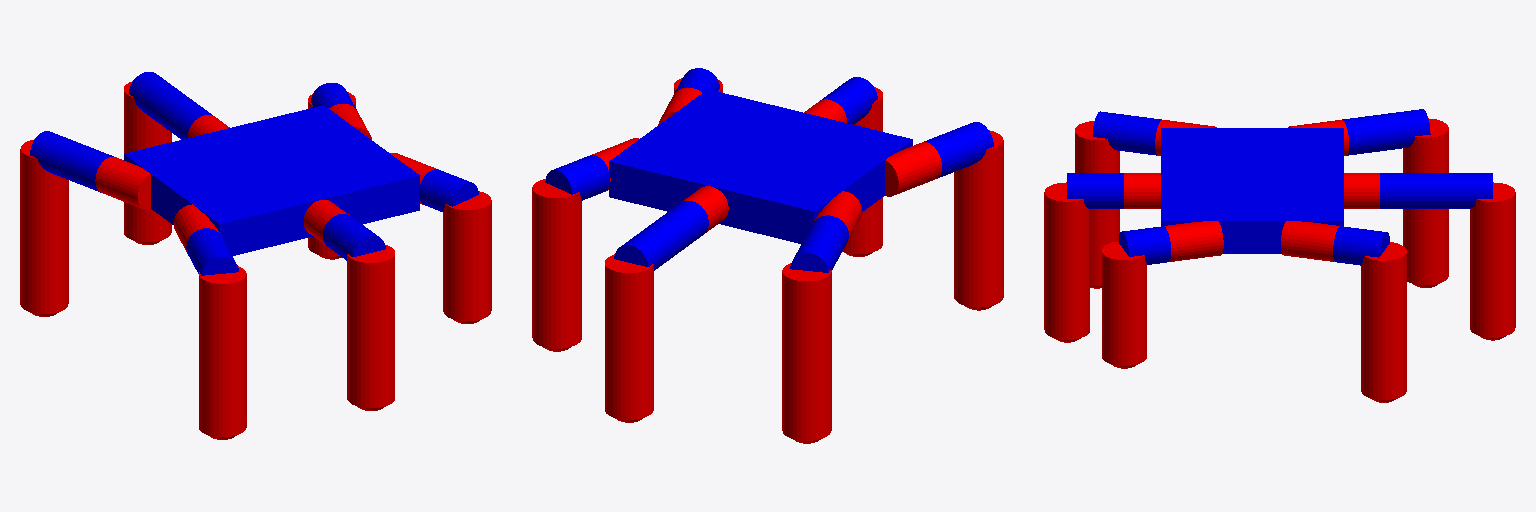
--- Render facts (derived) ---
The picture shows the robot from 3 angles, left to right: view 1: azimuth 30°, elevation 25°; view 2: azimuth 150°, elevation 25°; view 3: azimuth 270°, elevation 25°; orthographic projection.
Model pexod with 19 links and 18 joints (18 revolute), rooted at base_link, posed all joints at 0.
Visible links, largest first — view 1: base_link, leg_5_3, leg_4_3, leg_0_3, leg_3_3, leg_1_3, leg_1_2, leg_0_2, leg_0_1, leg_4_2, leg_5_2, leg_3_2 (+5 smaller); view 2: base_link, leg_0_3, leg_2_3, leg_1_3, leg_5_3, leg_1_2, leg_0_2, leg_5_1, leg_5_2, leg_4_3, leg_2_2, leg_4_2 (+5 smaller); view 3: base_link, leg_2_3, leg_4_3, leg_1_3, leg_0_3, leg_3_3, leg_1_2, leg_5_3, leg_0_2, leg_5_2, leg_3_1, leg_2_1 (+5 smaller).
Boxes of the visible links, bbox=[...] form: base_link: bbox=[124, 105, 419, 255]; leg_5_3: bbox=[199, 266, 246, 439]; leg_4_3: bbox=[347, 245, 394, 410]; leg_0_3: bbox=[20, 139, 68, 316]; leg_3_3: bbox=[443, 191, 491, 323]; leg_1_3: bbox=[124, 81, 171, 244]; leg_1_2: bbox=[129, 72, 212, 139]; leg_0_2: bbox=[30, 131, 113, 192]; leg_0_1: bbox=[95, 157, 150, 209]; leg_4_2: bbox=[323, 214, 385, 260]; leg_5_2: bbox=[186, 228, 238, 275]; leg_3_2: bbox=[419, 169, 478, 211]; base_link: bbox=[609, 89, 912, 243]; leg_0_3: bbox=[782, 263, 831, 443]; leg_2_3: bbox=[532, 179, 581, 351]; leg_1_3: bbox=[605, 254, 653, 422]; leg_5_3: bbox=[954, 130, 1003, 310]; leg_1_2: bbox=[614, 201, 708, 270]; leg_0_2: bbox=[790, 215, 848, 272]; leg_5_1: bbox=[885, 142, 941, 196]; leg_5_2: bbox=[924, 122, 993, 178]; leg_4_3: bbox=[842, 87, 882, 256]; leg_2_2: bbox=[545, 155, 609, 200]; leg_4_2: bbox=[820, 77, 877, 124]; base_link: bbox=[1161, 128, 1343, 253]; leg_2_3: bbox=[1361, 242, 1406, 402]; leg_4_3: bbox=[1044, 182, 1089, 342]; leg_1_3: bbox=[1470, 182, 1515, 340]; leg_0_3: bbox=[1403, 118, 1448, 287]; leg_3_3: bbox=[1102, 241, 1146, 368]; leg_1_2: bbox=[1380, 173, 1492, 208]; leg_5_3: bbox=[1075, 121, 1119, 288]; leg_0_2: bbox=[1342, 109, 1430, 155]; leg_5_2: bbox=[1093, 111, 1161, 155]; leg_3_1: bbox=[1165, 221, 1223, 261]; leg_2_1: bbox=[1281, 221, 1339, 261].
Bounding box of the posed robot: 0.3683 × 0.5148 × 0.2108 m (x, y, z).
Geometry: primitives only (box / cylinder / sphere), no mesh files.

robot.urdf — pexod:
<?xml version="1.0" ?>
<!-- =================================================================================== -->
<!-- |    This document was autogenerated by xacro from pexod.xacro                    | -->
<!-- |    EDITING THIS FILE BY HAND IS NOT RECOMMENDED                                 | -->
<!-- =================================================================================== -->
<robot name="pexod" xmlns:xacro="http://www.ros.org/wiki/xacro">
  <!-- <xacro:include filename="$(find pexod_description)/urdf/pexod_control.xacro" /> -->
  <!-- MATERIALS -->
  <material name="Blue">
    <color rgba="0 0 1 1"/>
  </material>
  <material name="Red">
    <color rgba="1 0 0 1"/>
  </material>
  <material name="Green">
    <color rgba="0 1 0 1"/>
  </material>
  <material name="Yellow">
    <color rgba="1 1 0 1"/>
  </material>
  <material name="LightGrey">
    <color rgba="0.6 0.6 0.6 1.0"/>
  </material>
  <!-- END OF MATERIALS -->
  <!-- XACRO MACROS FOR VISUALS AND COLLISIONS -->
  <!-- END OF XACRO MACROS -->
  <!-- TORSO -->
  <link name="base_link">
    <visual>
      <origin rpy="0 0 0" xyz="0 0 0"/>
      <geometry>
        <box size="0.24 0.2 0.04"/>
      </geometry>
      <material name="Blue"/>
    </visual>
    <collision>
      <origin rpy="0 0 0" xyz="0 0 0"/>
      <geometry>
        <box size="0.24 0.2 0.04"/>
      </geometry>
    </collision>
    <inertial>
      <!-- CENTER OF MASS -->
      <origin rpy="0 0 0" xyz="0 0 0"/>
      <mass value="1.031"/>
      <!-- box inertia: 1/12*m(y^2+z^2), ... -->
      <inertia ixx="0.00357413333333" ixy="0" ixz="0" iyy="0.00508626666667" iyz="0" izz="0.00838546666667"/>
    </inertial>
  </link>
  <!-- XACRO MACRO FOR LEGS LINKS/JOINTS -->
  <!-- END OF LEG LINKS/JOINTS -->
  <joint name="body_leg_2" type="revolute">
    <parent link="base_link"/>
    <child link="leg_2_1"/>
    <limit effort="30.0" lower="-1.57079632679" upper="1.57079632679" velocity="7.0"/>
    <origin rpy="0 0 -0.3" xyz="0.11 0.04 0"/>
    <!-- <xacro:if value="${index == 5 or index == 4 or index == 3}">
                <axis xyz="0 0 1"/>
            </xacro:if>
            <xacro:if value="${index == 2 or index == 1 or index == 0}"> -->
    <axis xyz="0 0 1"/>
    <!-- </xacro:if> -->
    <dynamics damping="0.0"/>
  </joint>
  <link name="leg_2_1">
    <visual>
      <origin rpy="1.57079632679 0 0" xyz="0.01 0.03 0"/>
      <geometry>
        <cylinder length="0.06" radius="0.02"/>
      </geometry>
      <material name="Red"/>
    </visual>
    <collision>
      <origin rpy="1.57079632679 0 0" xyz="0.01 0.03 0"/>
      <geometry>
        <box size="0.02 0.02 0.06"/>
      </geometry>
    </collision>
    <inertial>
      <!-- CENTER OF MASS -->
      <origin rpy="1.57079632679 0 0" xyz="0.01 0.03 0"/>
      <mass value="0.02"/>
      <!-- box inertia: 1/12*m(y^2+z^2), ... -->
      <inertia ixx="6.66666666667e-06" ixy="0" ixz="0" iyy="6.66666666667e-06" iyz="0" izz="1.33333333333e-06"/>
    </inertial>
  </link>
  <joint name="leg_2_1_2" type="revolute">
    <parent link="leg_2_1"/>
    <child link="leg_2_2"/>
    <limit effort="30.0" lower="-0.78539816339" upper="0.78539816339" velocity="7.0"/>
    <origin rpy="0 0 0" xyz="0 0.06 0"/>
    <axis xyz="1 0 0"/>
    <dynamics damping="0.0"/>
  </joint>
  <link name="leg_2_2">
    <visual>
      <origin rpy="1.57079632679 0 0" xyz="0.01 0.0263779897783 0"/>
      <geometry>
        <cylinder length="0.0527559795565" radius="0.02"/>
      </geometry>
      <material name="Blue"/>
    </visual>
    <collision>
      <origin rpy="1.57079632679 0 0" xyz="0.01 0.0263779897783 0"/>
      <geometry>
        <box size="0.02 0.02 0.0527559795565"/>
      </geometry>
    </collision>
    <inertial>
      <!-- CENTER OF MASS -->
      <origin rpy="1.57079632679 0 0" xyz="0.01 0.0263779897783 0"/>
      <mass value="0.184"/>
      <!-- box inertia: 1/12*m(y^2+z^2), ... -->
      <inertia ixx="4.88089651441e-05" ixy="0" ixz="0" iyy="4.88089651441e-05" iyz="0" izz="1.22666666667e-05"/>
    </inertial>
  </link>
  <joint name="leg_2_2_3" type="revolute">
    <parent link="leg_2_2"/>
    <child link="leg_2_3"/>
    <limit effort="30.0" lower="-0.78539816339" upper="0.78539816339" velocity="7.0"/>
    <origin rpy="-1.57079632679 0 0" xyz="0 0.0527559795565 0"/>
    <axis xyz="-1 0 0"/>
    <dynamics damping="0.0"/>
  </joint>
  <link name="leg_2_3">
    <visual>
      <origin rpy="1.57079632679 0 0" xyz="0.0125 0.084027027205 0"/>
      <geometry>
        <cylinder length="0.16805405441" radius="0.025"/>
      </geometry>
      <material name="Red"/>
    </visual>
    <visual>
      <origin rpy="1.57079632679 0 0" xyz="0.0125 0.15555405441 0"/>
      <geometry>
        <sphere radius="0.025"/>
      </geometry>
      <material name="Red"/>
    </visual>
    <collision>
      <origin rpy="1.57079632679 0 0" xyz="0.0125 0.084027027205 0"/>
      <geometry>
        <box size="0.025 0.025 0.16805405441"/>
      </geometry>
    </collision>
    <collision>
      <origin rpy="1.57079632679 0 0" xyz="0.0125 0.15555405441 0"/>
      <geometry>
        <sphere radius="0.025"/>
      </geometry>
      <material name="Red"/>
    </collision>
    <inertial>
      <!-- CENTER OF MASS -->
      <origin rpy="1.57079632679 0 0" xyz="0.0125 0.084027027205 0"/>
      <mass value="0.04"/>
      <!-- box inertia: 1/12*m(y^2+z^2), ... -->
      <inertia ixx="9.62238840121e-05" ixy="0" ixz="0" iyy="9.62238840121e-05" iyz="0" izz="4.16666666667e-06"/>
    </inertial>
  </link>
  <joint name="body_leg_3" type="revolute">
    <parent link="base_link"/>
    <child link="leg_3_1"/>
    <limit effort="30.0" lower="-1.57079632679" upper="1.57079632679" velocity="7.0"/>
    <origin rpy="0 0 0.3" xyz="0.11 -0.04 0"/>
    <!-- <xacro:if value="${index == 5 or index == 4 or index == 3}">
                <axis xyz="0 0 1"/>
            </xacro:if>
            <xacro:if value="${index == 2 or index == 1 or index == 0}"> -->
    <axis xyz="0 0 1"/>
    <!-- </xacro:if> -->
    <dynamics damping="0.0"/>
  </joint>
  <link name="leg_3_1">
    <visual>
      <origin rpy="1.57079632679 0 0" xyz="0.01 -0.03 0"/>
      <geometry>
        <cylinder length="0.06" radius="0.02"/>
      </geometry>
      <material name="Red"/>
    </visual>
    <collision>
      <origin rpy="1.57079632679 0 0" xyz="0.01 -0.03 0"/>
      <geometry>
        <box size="0.02 0.02 0.06"/>
      </geometry>
    </collision>
    <inertial>
      <!-- CENTER OF MASS -->
      <origin rpy="1.57079632679 0 0" xyz="0.01 -0.03 0"/>
      <mass value="0.02"/>
      <!-- box inertia: 1/12*m(y^2+z^2), ... -->
      <inertia ixx="6.66666666667e-06" ixy="0" ixz="0" iyy="6.66666666667e-06" iyz="0" izz="1.33333333333e-06"/>
    </inertial>
  </link>
  <joint name="leg_3_1_2" type="revolute">
    <parent link="leg_3_1"/>
    <child link="leg_3_2"/>
    <limit effort="30.0" lower="-0.78539816339" upper="0.78539816339" velocity="7.0"/>
    <origin rpy="0 0 0" xyz="0 -0.06 0"/>
    <axis xyz="-1 0 0"/>
    <dynamics damping="0.0"/>
  </joint>
  <link name="leg_3_2">
    <visual>
      <origin rpy="1.57079632679 0 0" xyz="0.01 -0.0240310248565 0"/>
      <geometry>
        <cylinder length="0.048062049713" radius="0.02"/>
      </geometry>
      <material name="Blue"/>
    </visual>
    <collision>
      <origin rpy="1.57079632679 0 0" xyz="0.01 -0.0240310248565 0"/>
      <geometry>
        <box size="0.02 0.02 0.048062049713"/>
      </geometry>
    </collision>
    <inertial>
      <!-- CENTER OF MASS -->
      <origin rpy="1.57079632679 0 0" xyz="0.01 -0.0240310248565 0"/>
      <mass value="0.184"/>
      <!-- box inertia: 1/12*m(y^2+z^2), ... -->
      <inertia ixx="4.15527295468e-05" ixy="0" ixz="0" iyy="4.15527295468e-05" iyz="0" izz="1.22666666667e-05"/>
    </inertial>
  </link>
  <joint name="leg_3_2_3" type="revolute">
    <parent link="leg_3_2"/>
    <child link="leg_3_3"/>
    <limit effort="30.0" lower="-0.78539816339" upper="0.78539816339" velocity="7.0"/>
    <origin rpy="1.57079632679 0 0" xyz="0 -0.048062049713 0"/>
    <axis xyz="1 0 0"/>
    <dynamics damping="0.0"/>
  </joint>
  <link name="leg_3_3">
    <visual>
      <origin rpy="1.57079632679 0 0" xyz="0.0125 -0.0637311681625 0"/>
      <geometry>
        <cylinder length="0.127462336325" radius="0.025"/>
      </geometry>
      <material name="Red"/>
    </visual>
    <visual>
      <origin rpy="1.57079632679 0 0" xyz="0.0125 -0.114962336325 0"/>
      <geometry>
        <sphere radius="0.025"/>
      </geometry>
      <material name="Red"/>
    </visual>
    <collision>
      <origin rpy="1.57079632679 0 0" xyz="0.0125 -0.0637311681625 0"/>
      <geometry>
        <box size="0.025 0.025 0.127462336325"/>
      </geometry>
    </collision>
    <collision>
      <origin rpy="1.57079632679 0 0" xyz="0.0125 -0.114962336325 0"/>
      <geometry>
        <sphere radius="0.025"/>
      </geometry>
      <material name="Red"/>
    </collision>
    <inertial>
      <!-- CENTER OF MASS -->
      <origin rpy="1.57079632679 0 0" xyz="0.0125 -0.0637311681625 0"/>
      <mass value="0.04"/>
      <!-- box inertia: 1/12*m(y^2+z^2), ... -->
      <inertia ixx="5.62388239381e-05" ixy="0" ixz="0" iyy="5.62388239381e-05" iyz="0" izz="4.16666666667e-06"/>
    </inertial>
  </link>
  <joint name="body_leg_0" type="revolute">
    <parent link="base_link"/>
    <child link="leg_0_1"/>
    <limit effort="30.0" lower="-1.57079632679" upper="1.57079632679" velocity="7.0"/>
    <origin rpy="0 0 0.3" xyz="-0.13 0.04 0"/>
    <!-- <xacro:if value="${index == 5 or index == 4 or index == 3}">
                <axis xyz="0 0 1"/>
            </xacro:if>
            <xacro:if value="${index == 2 or index == 1 or index == 0}"> -->
    <axis xyz="0 0 1"/>
    <!-- </xacro:if> -->
    <dynamics damping="0.0"/>
  </joint>
  <link name="leg_0_1">
    <visual>
      <origin rpy="1.57079632679 0 0" xyz="0.01 0.03 0"/>
      <geometry>
        <cylinder length="0.06" radius="0.02"/>
      </geometry>
      <material name="Red"/>
    </visual>
    <collision>
      <origin rpy="1.57079632679 0 0" xyz="0.01 0.03 0"/>
      <geometry>
        <box size="0.02 0.02 0.06"/>
      </geometry>
    </collision>
    <inertial>
      <!-- CENTER OF MASS -->
      <origin rpy="1.57079632679 0 0" xyz="0.01 0.03 0"/>
      <mass value="0.02"/>
      <!-- box inertia: 1/12*m(y^2+z^2), ... -->
      <inertia ixx="6.66666666667e-06" ixy="0" ixz="0" iyy="6.66666666667e-06" iyz="0" izz="1.33333333333e-06"/>
    </inertial>
  </link>
  <joint name="leg_0_1_2" type="revolute">
    <parent link="leg_0_1"/>
    <child link="leg_0_2"/>
    <limit effort="30.0" lower="-0.78539816339" upper="0.78539816339" velocity="7.0"/>
    <origin rpy="0 0 0" xyz="0 0.06 0"/>
    <axis xyz="1 0 0"/>
    <dynamics damping="0.0"/>
  </joint>
  <link name="leg_0_2">
    <visual>
      <origin rpy="1.57079632679 0 0" xyz="0.01 0.0464117291585 0"/>
      <geometry>
        <cylinder length="0.0928234583169" radius="0.02"/>
      </geometry>
      <material name="Blue"/>
    </visual>
    <collision>
      <origin rpy="1.57079632679 0 0" xyz="0.01 0.0464117291585 0"/>
      <geometry>
        <box size="0.02 0.02 0.0928234583169"/>
      </geometry>
    </collision>
    <inertial>
      <!-- CENTER OF MASS -->
      <origin rpy="1.57079632679 0 0" xyz="0.01 0.0464117291585 0"/>
      <mass value="0.184"/>
      <!-- box inertia: 1/12*m(y^2+z^2), ... -->
      <inertia ixx="0.000138248314347" ixy="0" ixz="0" iyy="0.000138248314347" iyz="0" izz="1.22666666667e-05"/>
    </inertial>
  </link>
  <joint name="leg_0_2_3" type="revolute">
    <parent link="leg_0_2"/>
    <child link="leg_0_3"/>
    <limit effort="30.0" lower="-0.78539816339" upper="0.78539816339" velocity="7.0"/>
    <origin rpy="-1.57079632679 0 0" xyz="0 0.0928234583169 0"/>
    <axis xyz="-1 0 0"/>
    <dynamics damping="0.0"/>
  </joint>
  <link name="leg_0_3">
    <visual>
      <origin rpy="1.57079632679 0 0" xyz="0.0125 0.089129734427 0"/>
      <geometry>
        <cylinder length="0.178259468854" radius="0.025"/>
      </geometry>
      <material name="Red"/>
    </visual>
    <visual>
      <origin rpy="1.57079632679 0 0" xyz="0.0125 0.165759468854 0"/>
      <geometry>
        <sphere radius="0.025"/>
      </geometry>
      <material name="Red"/>
    </visual>
    <collision>
      <origin rpy="1.57079632679 0 0" xyz="0.0125 0.089129734427 0"/>
      <geometry>
        <box size="0.025 0.025 0.178259468854"/>
      </geometry>
    </collision>
    <collision>
      <origin rpy="1.57079632679 0 0" xyz="0.0125 0.165759468854 0"/>
      <geometry>
        <sphere radius="0.025"/>
      </geometry>
      <material name="Red"/>
    </collision>
    <inertial>
      <!-- CENTER OF MASS -->
      <origin rpy="1.57079632679 0 0" xyz="0.0125 0.089129734427 0"/>
      <mass value="0.04"/>
      <!-- box inertia: 1/12*m(y^2+z^2), ... -->
      <inertia ixx="0.00010800479412" ixy="0" ixz="0" iyy="0.00010800479412" iyz="0" izz="4.16666666667e-06"/>
    </inertial>
  </link>
  <joint name="body_leg_5" type="revolute">
    <parent link="base_link"/>
    <child link="leg_5_1"/>
    <limit effort="30.0" lower="-1.57079632679" upper="1.57079632679" velocity="7.0"/>
    <origin rpy="0 0 -0.3" xyz="-0.13 -0.04 0"/>
    <!-- <xacro:if value="${index == 5 or index == 4 or index == 3}">
                <axis xyz="0 0 1"/>
            </xacro:if>
            <xacro:if value="${index == 2 or index == 1 or index == 0}"> -->
    <axis xyz="0 0 1"/>
    <!-- </xacro:if> -->
    <dynamics damping="0.0"/>
  </joint>
  <link name="leg_5_1">
    <visual>
      <origin rpy="1.57079632679 0 0" xyz="0.01 -0.03 0"/>
      <geometry>
        <cylinder length="0.06" radius="0.02"/>
      </geometry>
      <material name="Red"/>
    </visual>
    <collision>
      <origin rpy="1.57079632679 0 0" xyz="0.01 -0.03 0"/>
      <geometry>
        <box size="0.02 0.02 0.06"/>
      </geometry>
    </collision>
    <inertial>
      <!-- CENTER OF MASS -->
      <origin rpy="1.57079632679 0 0" xyz="0.01 -0.03 0"/>
      <mass value="0.02"/>
      <!-- box inertia: 1/12*m(y^2+z^2), ... -->
      <inertia ixx="6.66666666667e-06" ixy="0" ixz="0" iyy="6.66666666667e-06" iyz="0" izz="1.33333333333e-06"/>
    </inertial>
  </link>
  <joint name="leg_5_1_2" type="revolute">
    <parent link="leg_5_1"/>
    <child link="leg_5_2"/>
    <limit effort="30.0" lower="-0.78539816339" upper="0.78539816339" velocity="7.0"/>
    <origin rpy="0 0 0" xyz="0 -0.06 0"/>
    <axis xyz="-1 0 0"/>
    <dynamics damping="0.0"/>
  </joint>
  <link name="leg_5_2">
    <visual>
      <origin rpy="1.57079632679 0 0" xyz="0.01 -0.0357525392085 0"/>
      <geometry>
        <cylinder length="0.0715050784171" radius="0.02"/>
      </geometry>
      <material name="Blue"/>
    </visual>
    <collision>
      <origin rpy="1.57079632679 0 0" xyz="0.01 -0.0357525392085 0"/>
      <geometry>
        <box size="0.02 0.02 0.0715050784171"/>
      </geometry>
    </collision>
    <inertial>
      <!-- CENTER OF MASS -->
      <origin rpy="1.57079632679 0 0" xyz="0.01 -0.0357525392085 0"/>
      <mass value="0.184"/>
      <!-- box inertia: 1/12*m(y^2+z^2), ... -->
      <inertia ixx="8.4532302338e-05" ixy="0" ixz="0" iyy="8.4532302338e-05" iyz="0" izz="1.22666666667e-05"/>
    </inertial>
  </link>
  <joint name="leg_5_2_3" type="revolute">
    <parent link="leg_5_2"/>
    <child link="leg_5_3"/>
    <limit effort="30.0" lower="-0.78539816339" upper="0.78539816339" velocity="7.0"/>
    <origin rpy="1.57079632679 0 0" xyz="0 -0.0715050784171 0"/>
    <axis xyz="1 0 0"/>
    <dynamics damping="0.0"/>
  </joint>
  <link name="leg_5_3">
    <visual>
      <origin rpy="1.57079632679 0 0" xyz="0.0125 -0.087871033452 0"/>
      <geometry>
        <cylinder length="0.175742066904" radius="0.025"/>
      </geometry>
      <material name="Red"/>
    </visual>
    <visual>
      <origin rpy="1.57079632679 0 0" xyz="0.0125 -0.163242066904 0"/>
      <geometry>
        <sphere radius="0.025"/>
      </geometry>
      <material name="Red"/>
    </visual>
    <collision>
      <origin rpy="1.57079632679 0 0" xyz="0.0125 -0.087871033452 0"/>
      <geometry>
        <box size="0.025 0.025 0.175742066904"/>
      </geometry>
    </collision>
    <collision>
      <origin rpy="1.57079632679 0 0" xyz="0.0125 -0.163242066904 0"/>
      <geometry>
        <sphere radius="0.025"/>
      </geometry>
      <material name="Red"/>
    </collision>
    <inertial>
      <!-- CENTER OF MASS -->
      <origin rpy="1.57079632679 0 0" xyz="0.0125 -0.087871033452 0"/>
      <mass value="0.04"/>
      <!-- box inertia: 1/12*m(y^2+z^2), ... -->
      <inertia ixx="0.000105034246932" ixy="0" ixz="0" iyy="0.000105034246932" iyz="0" izz="4.16666666667e-06"/>
    </inertial>
  </link>
  <joint name="body_leg_1" type="revolute">
    <parent link="base_link"/>
    <child link="leg_1_1"/>
    <limit effort="30.0" lower="-1.57079632679" upper="1.57079632679" velocity="7.0"/>
    <origin rpy="0 0 0" xyz="-0.01 0.08 0"/>
    <!-- <xacro:if value="${index == 5 or index == 4 or index == 3}">
                <axis xyz="0 0 1"/>
            </xacro:if>
            <xacro:if value="${index == 2 or index == 1 or index == 0}"> -->
    <axis xyz="0 0 1"/>
    <!-- </xacro:if> -->
    <dynamics damping="0.0"/>
  </joint>
  <link name="leg_1_1">
    <visual>
      <origin rpy="1.57079632679 0 0" xyz="0.01 0.03 0"/>
      <geometry>
        <cylinder length="0.06" radius="0.02"/>
      </geometry>
      <material name="Red"/>
    </visual>
    <collision>
      <origin rpy="1.57079632679 0 0" xyz="0.01 0.03 0"/>
      <geometry>
        <box size="0.02 0.02 0.06"/>
      </geometry>
    </collision>
    <inertial>
      <!-- CENTER OF MASS -->
      <origin rpy="1.57079632679 0 0" xyz="0.01 0.03 0"/>
      <mass value="0.02"/>
      <!-- box inertia: 1/12*m(y^2+z^2), ... -->
      <inertia ixx="6.66666666667e-06" ixy="0" ixz="0" iyy="6.66666666667e-06" iyz="0" izz="1.33333333333e-06"/>
    </inertial>
  </link>
  <joint name="leg_1_1_2" type="revolute">
    <parent link="leg_1_1"/>
    <child link="leg_1_2"/>
    <limit effort="30.0" lower="-0.78539816339" upper="0.78539816339" velocity="7.0"/>
    <origin rpy="0 0 0" xyz="0 0.06 0"/>
    <axis xyz="1 0 0"/>
    <dynamics damping="0.0"/>
  </joint>
  <link name="leg_1_2">
    <visual>
      <origin rpy="1.57079632679 0 0" xyz="0.01 0.0613669009865 0"/>
      <geometry>
        <cylinder length="0.122733801973" radius="0.02"/>
      </geometry>
      <material name="Blue"/>
    </visual>
    <collision>
      <origin rpy="1.57079632679 0 0" xyz="0.01 0.0613669009865 0"/>
      <geometry>
        <box size="0.02 0.02 0.122733801973"/>
      </geometry>
    </collision>
    <inertial>
      <!-- CENTER OF MASS -->
      <origin rpy="1.57079632679 0 0" xyz="0.01 0.0613669009865 0"/>
      <mass value="0.184"/>
      <!-- box inertia: 1/12*m(y^2+z^2), ... -->
      <inertia ixx="0.000237108320917" ixy="0" ixz="0" iyy="0.000237108320917" iyz="0" izz="1.22666666667e-05"/>
    </inertial>
  </link>
  <joint name="leg_1_2_3" type="revolute">
    <parent link="leg_1_2"/>
    <child link="leg_1_3"/>
    <limit effort="30.0" lower="-0.78539816339" upper="0.78539816339" velocity="7.0"/>
    <origin rpy="-1.57079632679 0 0" xyz="0 0.122733801973 0"/>
    <axis xyz="-1 0 0"/>
    <dynamics damping="0.0"/>
  </joint>
  <link name="leg_1_3">
    <visual>
      <origin rpy="1.57079632679 0 0" xyz="0.0125 0.0820023290695 0"/>
      <geometry>
        <cylinder length="0.164004658139" radius="0.025"/>
      </geometry>
      <material name="Red"/>
    </visual>
    <visual>
      <origin rpy="1.57079632679 0 0" xyz="0.0125 0.151504658139 0"/>
      <geometry>
        <sphere radius="0.025"/>
      </geometry>
      <material name="Red"/>
    </visual>
    <collision>
      <origin rpy="1.57079632679 0 0" xyz="0.0125 0.0820023290695 0"/>
      <geometry>
        <box size="0.025 0.025 0.164004658139"/>
      </geometry>
    </collision>
    <collision>
      <origin rpy="1.57079632679 0 0" xyz="0.0125 0.151504658139 0"/>
      <geometry>
        <sphere radius="0.025"/>
      </geometry>
      <material name="Red"/>
    </collision>
    <inertial>
      <!-- CENTER OF MASS -->
      <origin rpy="1.57079632679 0 0" xyz="0.0125 0.0820023290695 0"/>
      <mass value="0.04"/>
      <!-- box inertia: 1/12*m(y^2+z^2), ... -->
      <inertia ixx="9.17417596376e-05" ixy="0" ixz="0" iyy="9.17417596376e-05" iyz="0" izz="4.16666666667e-06"/>
    </inertial>
  </link>
  <joint name="body_leg_4" type="revolute">
    <parent link="base_link"/>
    <child link="leg_4_1"/>
    <limit effort="30.0" lower="-1.57079632679" upper="1.57079632679" velocity="7.0"/>
    <origin rpy="0 0 0" xyz="-0.01 -0.08 0"/>
    <!-- <xacro:if value="${index == 5 or index == 4 or index == 3}">
                <axis xyz="0 0 1"/>
            </xacro:if>
            <xacro:if value="${index == 2 or index == 1 or index == 0}"> -->
    <axis xyz="0 0 1"/>
    <!-- </xacro:if> -->
    <dynamics damping="0.0"/>
  </joint>
  <link name="leg_4_1">
    <visual>
      <origin rpy="1.57079632679 0 0" xyz="0.01 -0.03 0"/>
      <geometry>
        <cylinder length="0.06" radius="0.02"/>
      </geometry>
      <material name="Red"/>
    </visual>
    <collision>
      <origin rpy="1.57079632679 0 0" xyz="0.01 -0.03 0"/>
      <geometry>
        <box size="0.02 0.02 0.06"/>
      </geometry>
    </collision>
    <inertial>
      <!-- CENTER OF MASS -->
      <origin rpy="1.57079632679 0 0" xyz="0.01 -0.03 0"/>
      <mass value="0.02"/>
      <!-- box inertia: 1/12*m(y^2+z^2), ... -->
      <inertia ixx="6.66666666667e-06" ixy="0" ixz="0" iyy="6.66666666667e-06" iyz="0" izz="1.33333333333e-06"/>
    </inertial>
  </link>
  <joint name="leg_4_1_2" type="revolute">
    <parent link="leg_4_1"/>
    <child link="leg_4_2"/>
    <limit effort="30.0" lower="-0.78539816339" upper="0.78539816339" velocity="7.0"/>
    <origin rpy="0 0 0" xyz="0 -0.06 0"/>
    <axis xyz="-1 0 0"/>
    <dynamics damping="0.0"/>
  </joint>
  <link name="leg_4_2">
    <visual>
      <origin rpy="1.57079632679 0 0" xyz="0.01 -0.03102171294 0"/>
      <geometry>
        <cylinder length="0.0620434258801" radius="0.02"/>
      </geometry>
      <material name="Blue"/>
    </visual>
    <collision>
      <origin rpy="1.57079632679 0 0" xyz="0.01 -0.03102171294 0"/>
      <geometry>
        <box size="0.02 0.02 0.0620434258801"/>
      </geometry>
    </collision>
    <inertial>
      <!-- CENTER OF MASS -->
      <origin rpy="1.57079632679 0 0" xyz="0.01 -0.03102171294 0"/>
      <mass value="0.184"/>
      <!-- box inertia: 1/12*m(y^2+z^2), ... -->
      <inertia ixx="6.51572626557e-05" ixy="0" ixz="0" iyy="6.51572626557e-05" iyz="0" izz="1.22666666667e-05"/>
    </inertial>
  </link>
  <joint name="leg_4_2_3" type="revolute">
    <parent link="leg_4_2"/>
    <child link="leg_4_3"/>
    <limit effort="30.0" lower="-0.78539816339" upper="0.78539816339" velocity="7.0"/>
    <origin rpy="1.57079632679 0 0" xyz="0 -0.0620434258801 0"/>
    <axis xyz="1 0 0"/>
    <dynamics damping="0.0"/>
  </joint>
  <link name="leg_4_3">
    <visual>
      <origin rpy="1.57079632679 0 0" xyz="0.0125 -0.083292818722 0"/>
      <geometry>
        <cylinder length="0.166585637444" radius="0.025"/>
      </geometry>
      <material name="Red"/>
    </visual>
    <visual>
      <origin rpy="1.57079632679 0 0" xyz="0.0125 -0.154085637444 0"/>
      <geometry>
        <sphere radius="0.025"/>
      </geometry>
      <material name="Red"/>
    </visual>
    <collision>
      <origin rpy="1.57079632679 0 0" xyz="0.0125 -0.083292818722 0"/>
      <geometry>
        <box size="0.025 0.025 0.166585637444"/>
      </geometry>
    </collision>
    <collision>
      <origin rpy="1.57079632679 0 0" xyz="0.0125 -0.154085637444 0"/>
      <geometry>
        <sphere radius="0.025"/>
      </geometry>
      <material name="Red"/>
    </collision>
    <inertial>
      <!-- CENTER OF MASS -->
      <origin rpy="1.57079632679 0 0" xyz="0.0125 -0.083292818722 0"/>
      <mass value="0.04"/>
      <!-- box inertia: 1/12*m(y^2+z^2), ... -->
      <inertia ixx="9.45859153421e-05" ixy="0" ixz="0" iyy="9.45859153421e-05" iyz="0" izz="4.16666666667e-06"/>
    </inertial>
  </link>
  <!-- END OF LEG LINKS/JOINTS -->
</robot>
